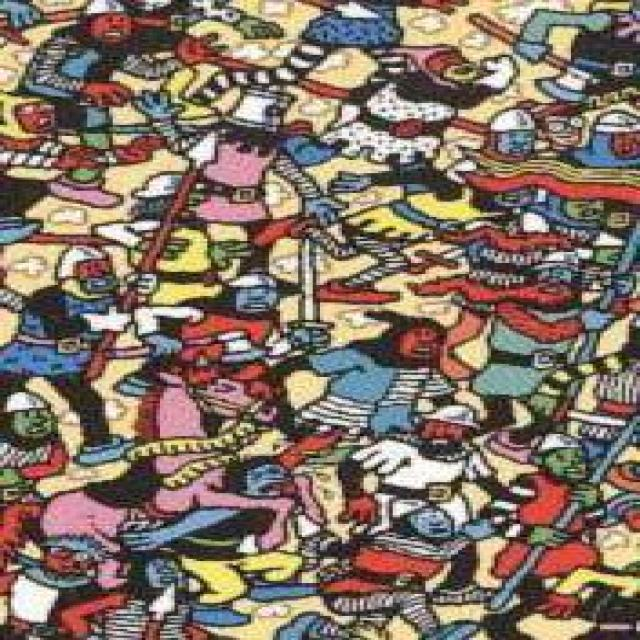waldo: (513, 101, 589, 147)
